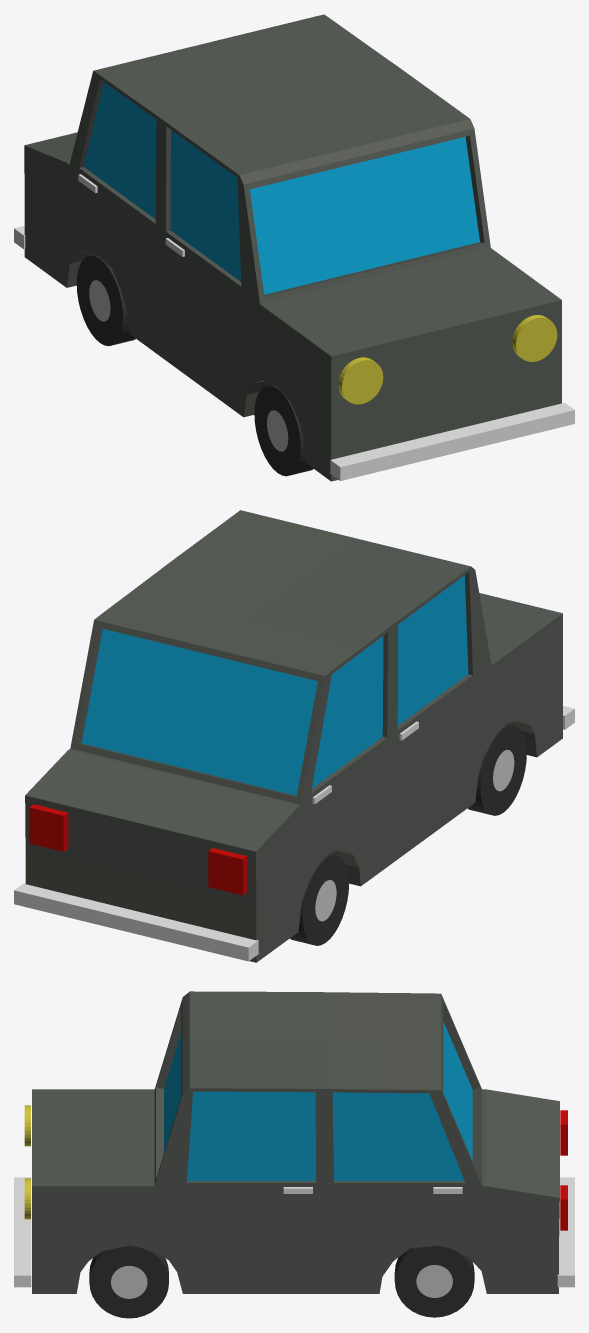
The model's file is sedan.fbx.
3 renders of one model, top to bottom at view 1: azimuth 30°, elevation 25°; view 2: azimuth 150°, elevation 25°; view 3: azimuth 270°, elevation 25°, orthographic. The views are drawn at different scales.
Parts seen in each view (by area): view 1: Vehicle Body, Windows, Front Bumper.002, Rear Right Tire.001, Front Right Tire.001, Right Headlight.001, Left Headlight.001; view 2: Vehicle Body, Windows, Front Bumper.003, Front Right Tire.001, Rear Right Tire.001, Cube.001; view 3: Vehicle Body, Windows, Front-Left-Tire.001, Rear Left Tire.001, Front Bumper.002, Front Bumper.003, Cube.001.
Part boxes in pixels (x1,y1,x2,y2): Vehicle Body: (24, 14, 561, 481); Windows: (84, 82, 479, 294); Front Bumper.002: (330, 403, 574, 480); Rear Right Tire.001: (76, 254, 135, 346); Front Right Tire.001: (254, 384, 313, 476); Right Headlight.001: (338, 357, 383, 404); Left Headlight.001: (512, 315, 557, 361); Vehicle Body: (25, 510, 562, 962); Windows: (81, 575, 468, 795); Front Bumper.003: (14, 883, 258, 961); Front Right Tire.001: (467, 723, 526, 815); Rear Right Tire.001: (290, 854, 348, 945); Cube.001: (29, 804, 247, 895); Vehicle Body: (32, 991, 559, 1293); Windows: (164, 1021, 472, 1180); Front-Left-Tire.001: (89, 1245, 168, 1318); Rear Left Tire.001: (394, 1245, 474, 1317); Front Bumper.002: (14, 1177, 31, 1287); Front Bumper.003: (557, 1177, 574, 1287); Cube.001: (560, 1110, 567, 1230).
Size of the model in its own units: 205 by 226 by 490.
